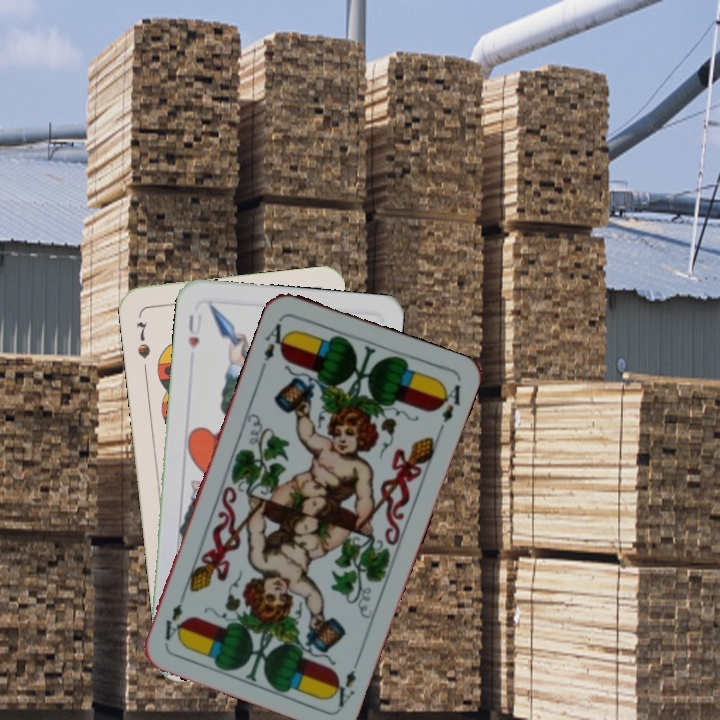EA: (328, 652, 364, 709), (257, 319, 292, 372)
HU: (184, 310, 205, 351)
S7: (132, 317, 153, 361)
